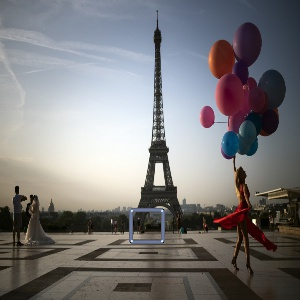square: (127, 207, 166, 245)
